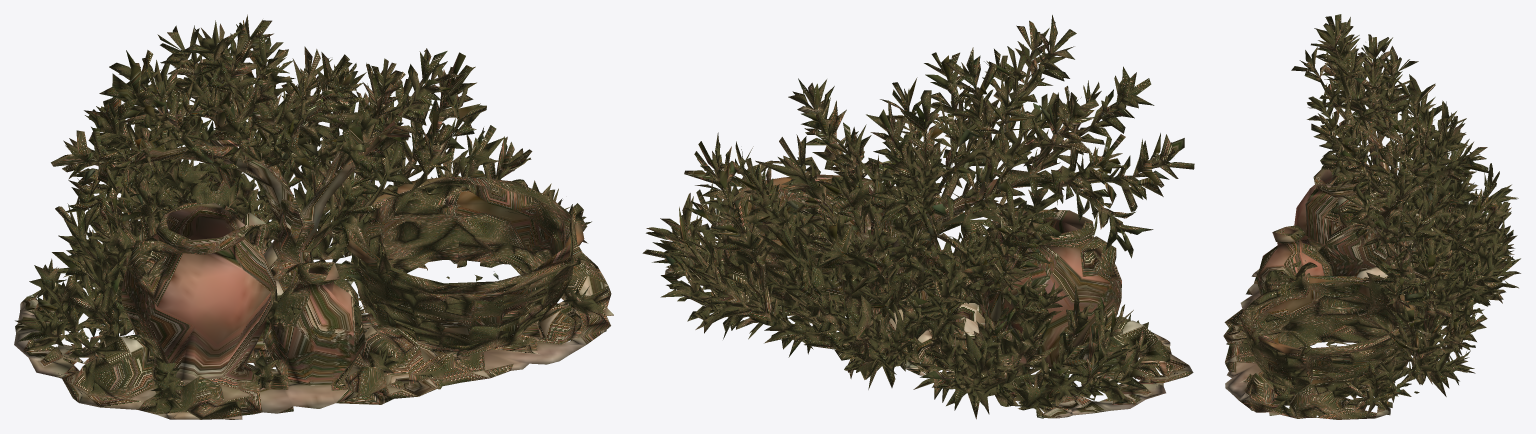
The model's file is olive-basket-cluster-b.glb.
3 renders of one model, left to right at view 1: azimuth 30°, elevation 25°; view 2: azimuth 150°, elevation 25°; view 3: azimuth 270°, elevation 25°, orthographic. The views are drawn at different scales.
Parts seen in each view (by area): view 1: geometry_0; view 2: geometry_0; view 3: geometry_0.
Boxes of the visible parts, box(x1,y1,x2,y2) form: geometry_0: box(14, 14, 613, 419); geometry_0: box(642, 15, 1194, 419); geometry_0: box(1223, 14, 1520, 419).
Size of the model in its own units: 1.88 by 1.15 by 1.16.
Materials: 1 (1 with a texture image).
